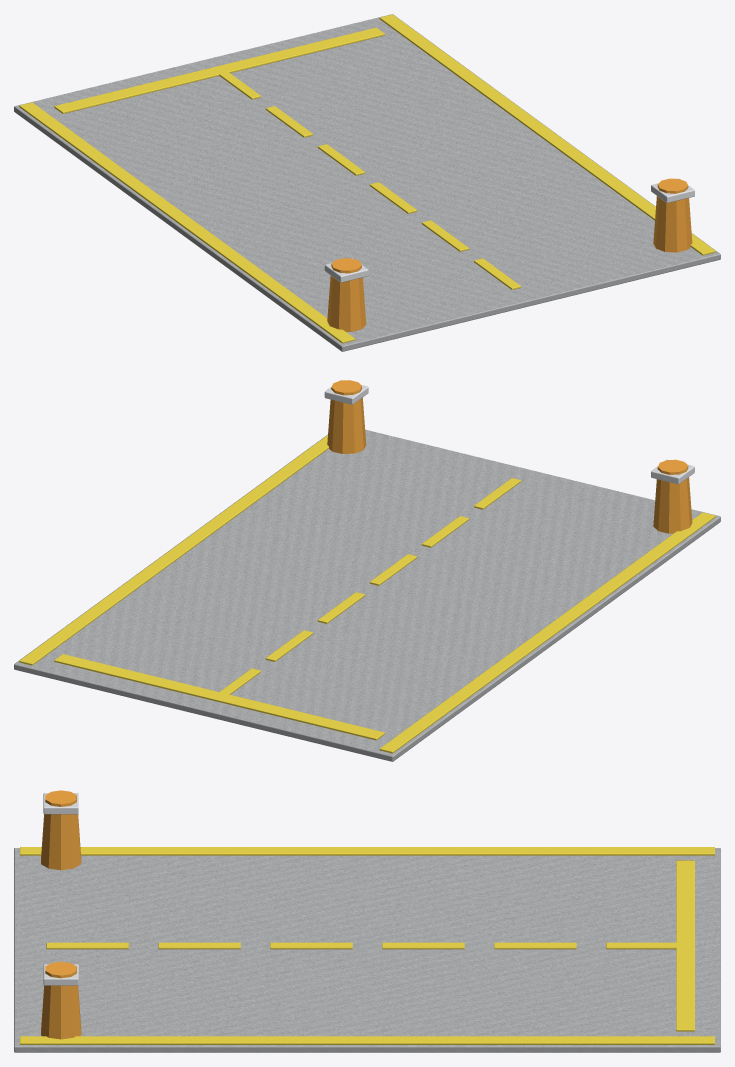
Rendered from delivery-lane-marking.glb.
3 views of the same model, one above another, from view 1: azimuth 30°, elevation 25°; view 2: azimuth 150°, elevation 25°; view 3: azimuth 270°, elevation 25° (orthographic). The views are drawn at different scales.
Parts seen in each view (by area): view 1: delivery-lane-marking; view 2: delivery-lane-marking; view 3: delivery-lane-marking.
Boxes of the visible parts, x1,y1,x2,y2 form: delivery-lane-marking: (14,14,720,351); delivery-lane-marking: (14,380,720,761); delivery-lane-marking: (14,790,720,1052).
Bounding box in the file's own units: 4 × 0.6599 × 6.
Materials: 4 (1 with a texture image).
